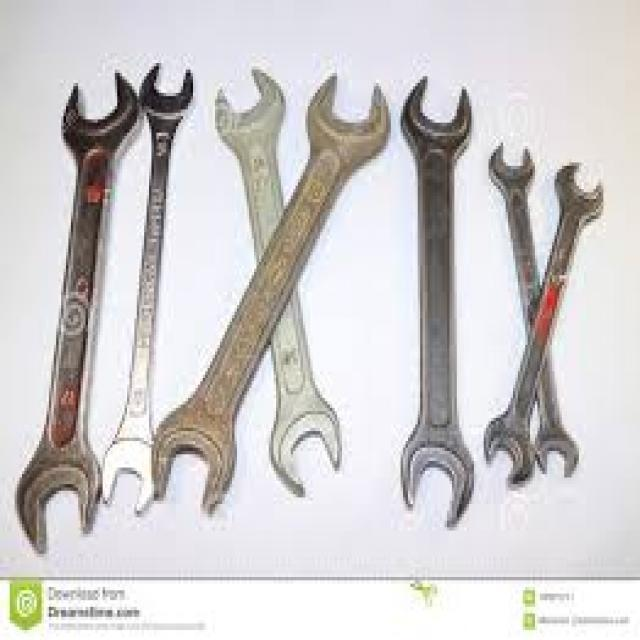wrench: (149, 67, 392, 529), (13, 64, 142, 556), (209, 59, 348, 502), (101, 54, 197, 523), (484, 154, 608, 483), (394, 68, 480, 534), (486, 140, 582, 482)
